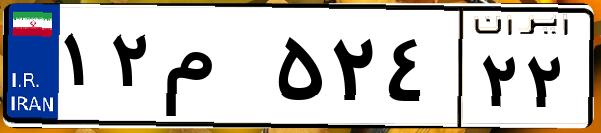1: (57, 26, 110, 100)
2: (330, 28, 385, 110), (475, 38, 525, 113), (525, 38, 570, 115), (110, 28, 158, 98)
4: (385, 28, 445, 110)
5: (270, 28, 330, 110)
م: (158, 20, 270, 120)
